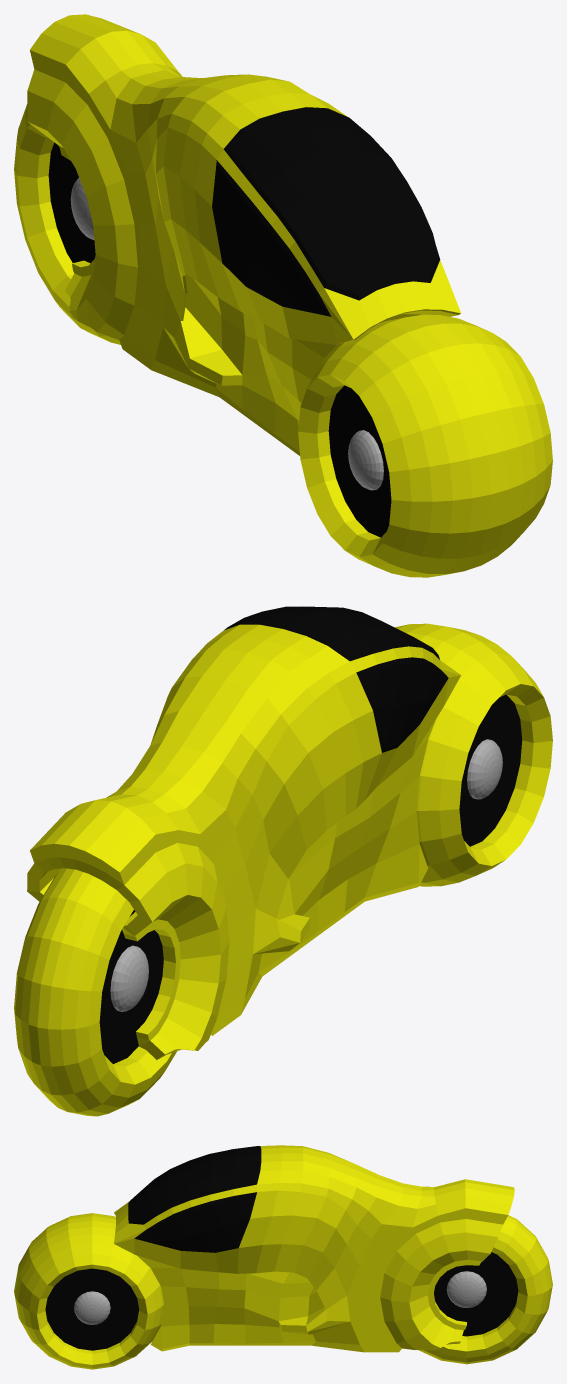
Rendered from Lightcycle.fbx.
3 renders of one model, top to bottom at view 1: azimuth 30°, elevation 25°; view 2: azimuth 150°, elevation 25°; view 3: azimuth 270°, elevation 25°, orthographic. The views are drawn at different scales.
Parts seen in each view (by area): view 1: mainFrame, front_wheel, windows, windowFrame, back_wheel; view 2: mainFrame, back_wheel, front_wheel, windows, windowFrame; view 3: mainFrame, front_wheel, back_wheel, windows, windowFrame.
Boxes of the visible parts, x1,y1,x2,y2 form: mainFrame: (27, 14, 457, 455); front_wheel: (298, 314, 552, 577); windows: (212, 107, 440, 316); windowFrame: (194, 92, 460, 344); back_wheel: (14, 104, 120, 344); mainFrame: (27, 635, 435, 1059); back_wheel: (14, 868, 176, 1116); front_wheel: (395, 623, 552, 886); windows: (224, 606, 448, 752); windowFrame: (208, 624, 461, 808); mainFrame: (136, 1145, 514, 1352); front_wheel: (14, 1213, 164, 1369); back_wheel: (418, 1215, 552, 1364); windows: (128, 1146, 261, 1252); windowFrame: (113, 1145, 281, 1273).
Size of the model in its own units: 0.6717 by 1.38 by 3.23.
